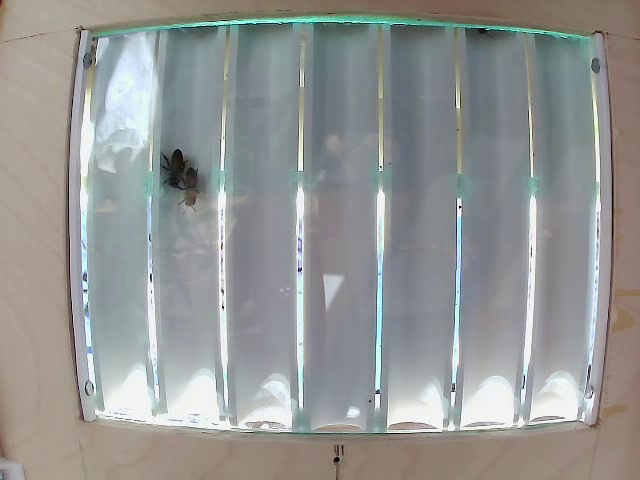bee: (159, 141, 196, 193), (185, 165, 205, 224)
